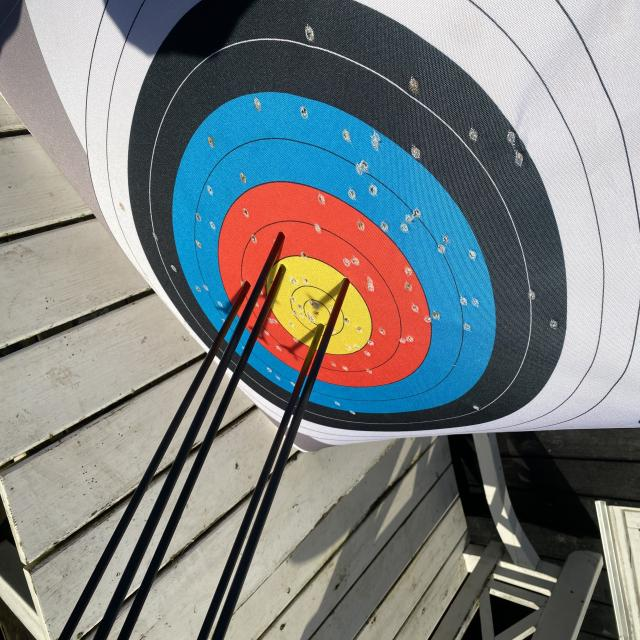Arrow_Red: (236, 273, 262, 298), (271, 216, 289, 250)
Arrow_Yellow: (314, 310, 330, 344), (338, 270, 357, 293), (276, 255, 288, 285)
